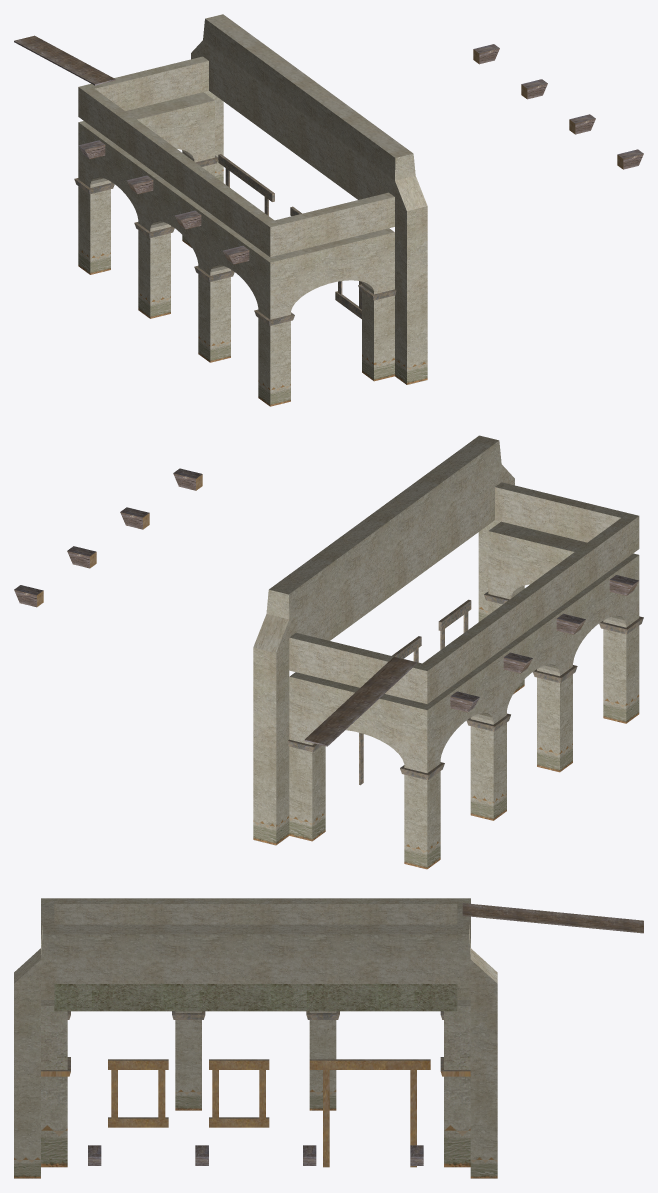
Rendered from StaticMesh12.fbx.
The picture shows the model from 3 angles, top to bottom: view 1: azimuth 30°, elevation 25°; view 2: azimuth 150°, elevation 25°; view 3: azimuth 270°, elevation 25°; orthographic projection. The views are drawn at different scales.
Parts seen in each view (by area): view 1: StaticMesh12; view 2: StaticMesh12; view 3: StaticMesh12.
Part boxes in pixels (left/top/right/bottom): StaticMesh12: left=14, top=14, right=643, bottom=406; StaticMesh12: left=14, top=435, right=643, bottom=869; StaticMesh12: left=14, top=898, right=643, bottom=1178.
Bounding box in the file's own units: 64000 × 32000 × 75024.
